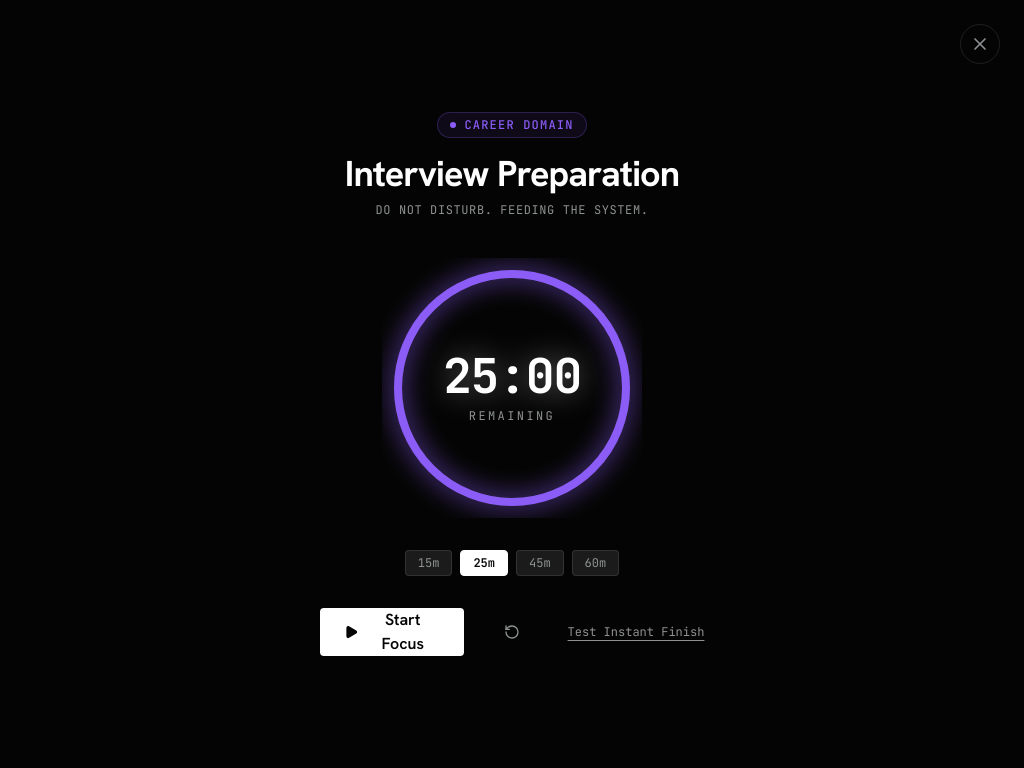
Test: FocusTimerModal › switches to 15m, 45m, or 60m preset when selected
Select 15m preset
Click the button "15m" at (429, 563), box [405,550,452,576]
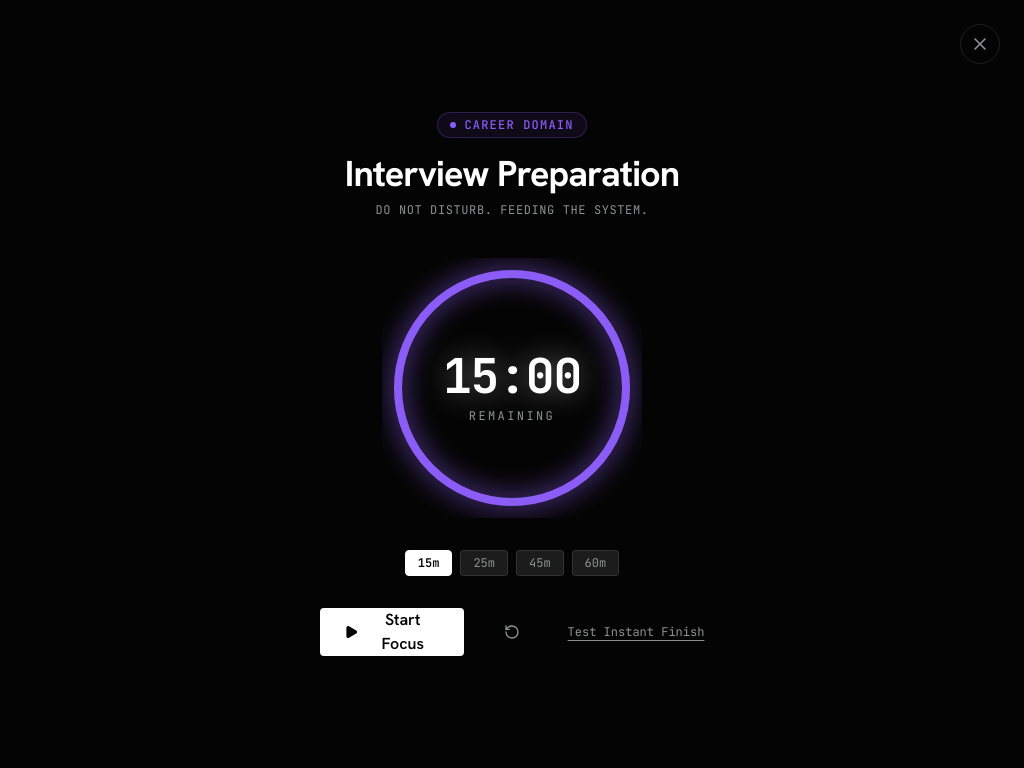
Expected: the text "15:00" is shown, [443,352,581,400]
Select 60m preset
Click the button "60m" at (595, 563), box [572,550,619,576]
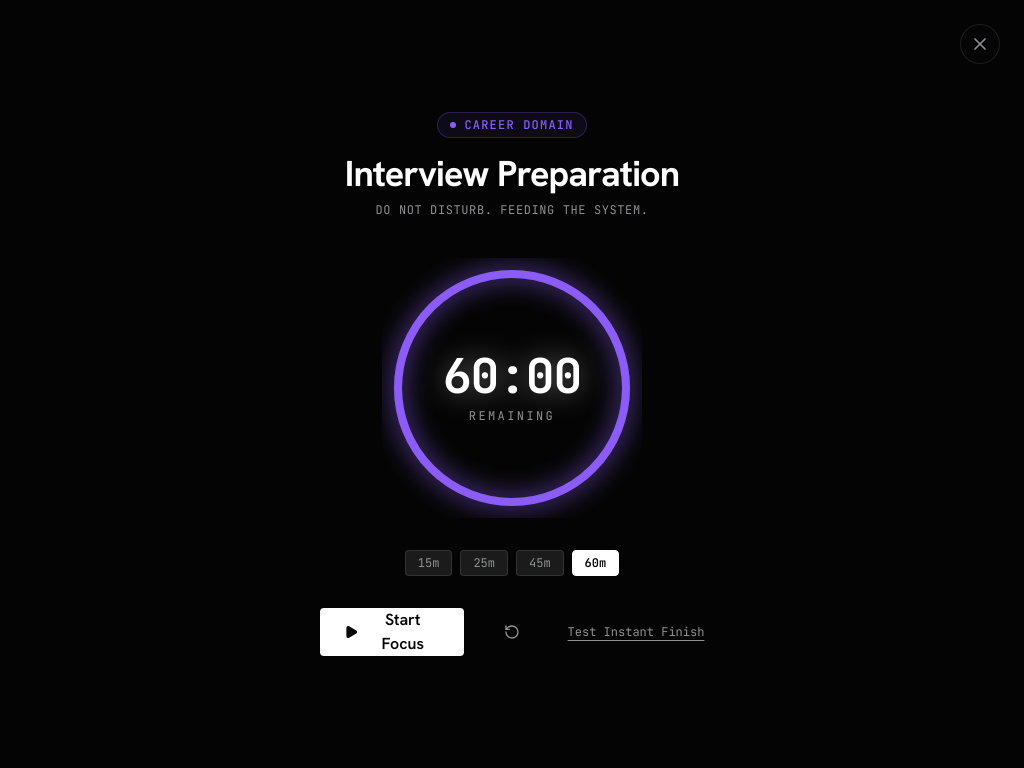
Expected: the text "60:00" is shown, [443,352,581,400]
